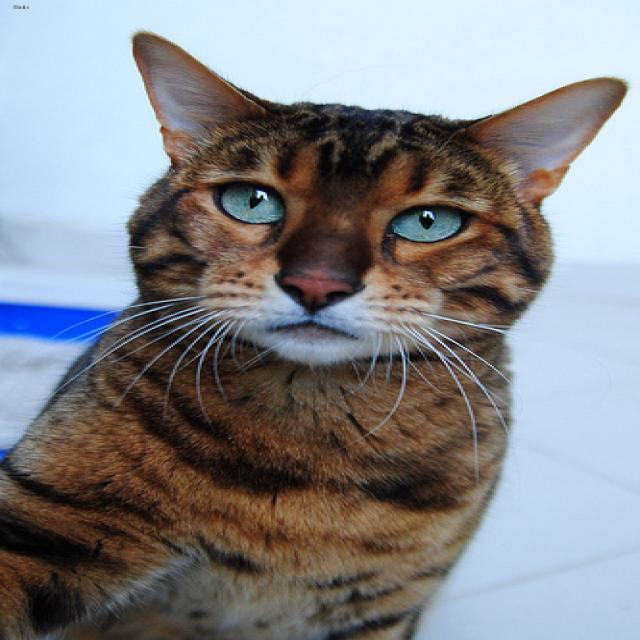Bengal: (105, 34, 625, 367)
